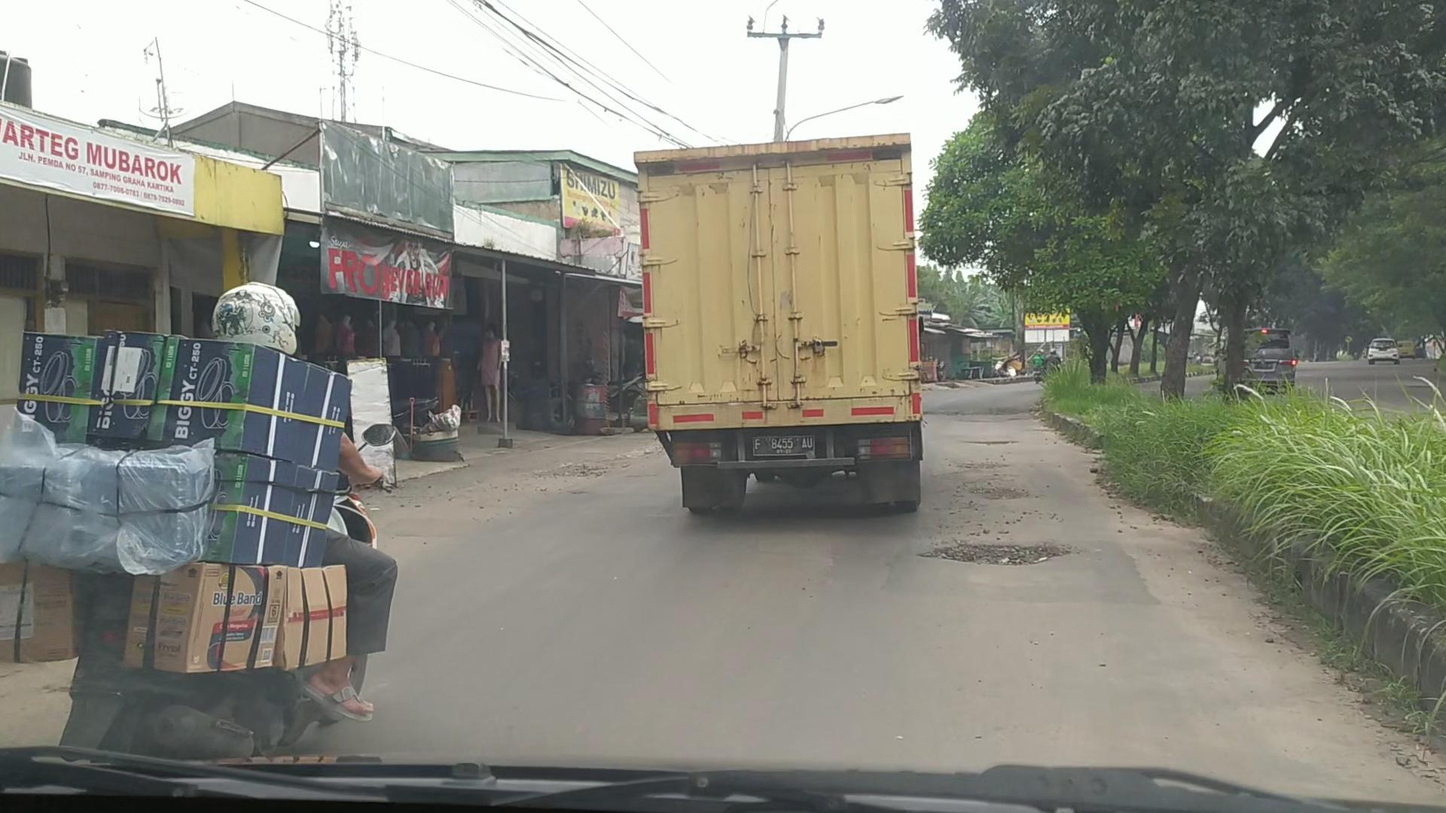pothole: (923, 542, 1068, 564), (965, 485, 1027, 502)
